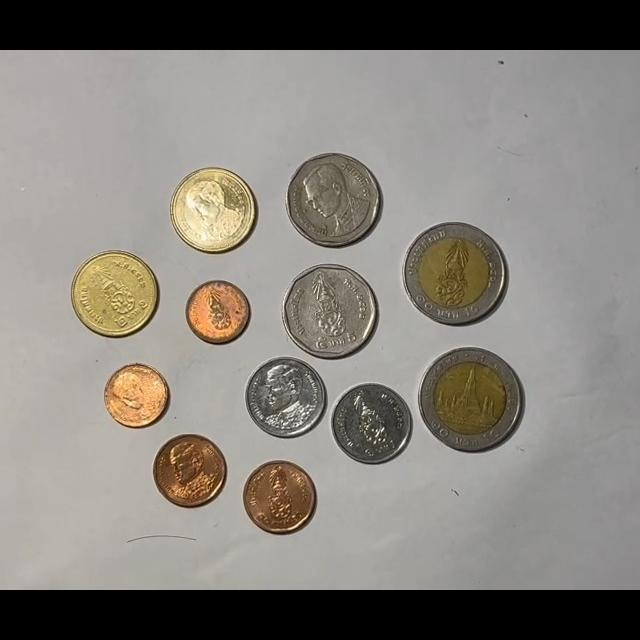1-baht: (331, 383, 413, 464), (245, 356, 326, 437)
10-baht: (402, 222, 509, 326), (418, 347, 523, 452)
2-baht: (170, 167, 258, 254), (72, 251, 159, 338)
25-satang: (185, 279, 251, 345), (104, 363, 171, 428)
5-baht: (281, 264, 378, 359), (286, 152, 383, 247)
50-satang: (243, 460, 316, 534), (153, 434, 227, 507)
